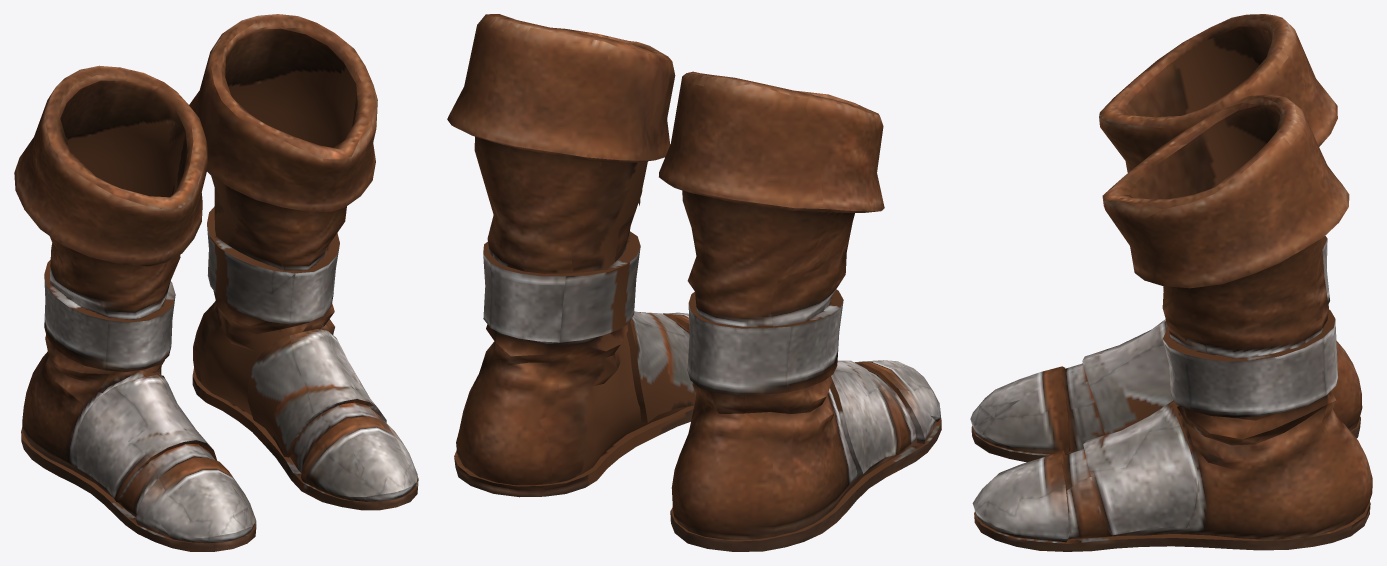
Rendered from item_mm9_10129.glb.
The picture shows the model from 3 angles, left to right: view 1: azimuth 30°, elevation 25°; view 2: azimuth 150°, elevation 25°; view 3: azimuth 270°, elevation 25°; orthographic projection. The views are drawn at different scales.
Parts seen in each view (by area): view 1: d10129; view 2: d10129; view 3: d10129.
Boxes of the visible parts, box(x1,y1,x2,y2) form: d10129: box(14, 14, 418, 551); d10129: box(447, 14, 941, 551); d10129: box(970, 14, 1372, 551).
Bounding box in the file's own units: 0.9292 × 1 × 0.8751.
1 material, 1 textured.
